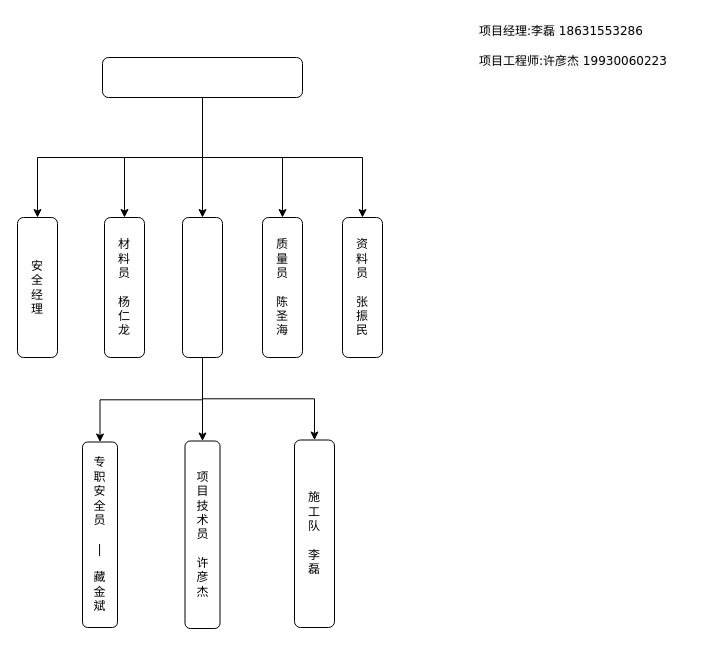
This 705x646 diagram has some shape labels left out. The centre of each missing label's shape, as x and y in pixels:
"项 目 工 程 师 许 彦 杰" goes at point (202, 287).
"项目经理 李磊 18631553286" goes at point (202, 77).
